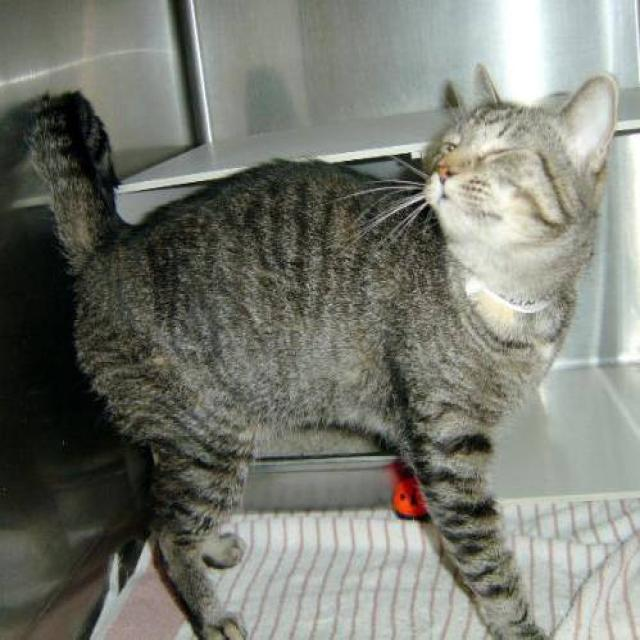cat: (22, 62, 619, 639)
